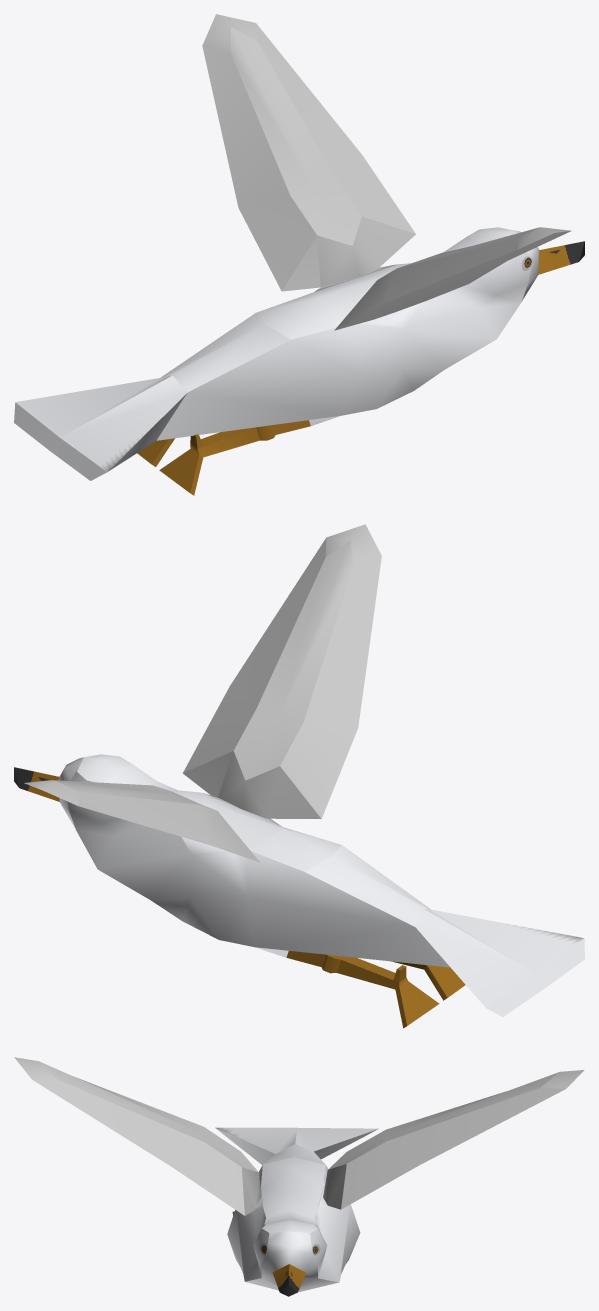
The model's file is Seagull.glb.
The picture shows the model from 3 angles, top to bottom: view 1: azimuth 30°, elevation 25°; view 2: azimuth 150°, elevation 25°; view 3: azimuth 270°, elevation 25°; orthographic projection. The views are drawn at different scales.
Visible parts, largest first — view 1: BirdBody, Leftwing, Rightwing; view 2: BirdBody, Rightwing, Leftwing; view 3: BirdBody, Rightwing, Leftwing.
Boxes of the visible parts, x1,y1,x2,y2 form: BirdBody: [14, 227, 584, 495]; Leftwing: [202, 14, 415, 291]; Rightwing: [334, 227, 571, 330]; BirdBody: [14, 754, 584, 1028]; Rightwing: [182, 524, 381, 818]; Leftwing: [24, 780, 259, 862]; BirdBody: [215, 1127, 378, 1296]; Rightwing: [14, 1057, 260, 1215]; Leftwing: [323, 1070, 584, 1209].
Size of the model in its own units: 82.16 by 44.24 by 88.47.
2 materials, 1 textured.
